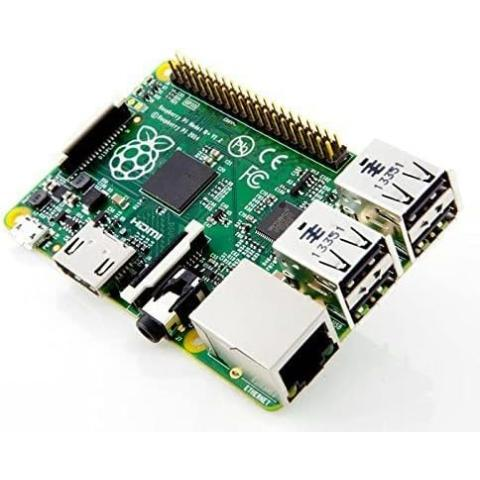Raspberry-Pi-1-Model-B-: (0, 48, 468, 418)
